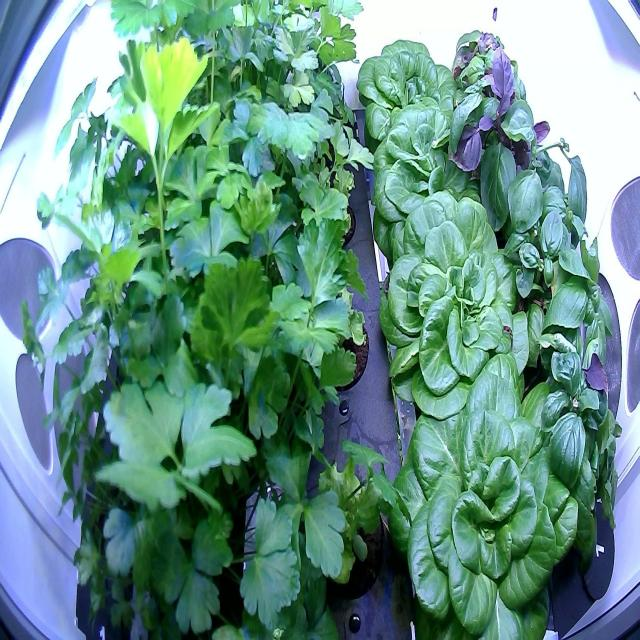Ready: (380, 329, 592, 640), (369, 181, 536, 423), (360, 94, 504, 266), (353, 36, 485, 166)
